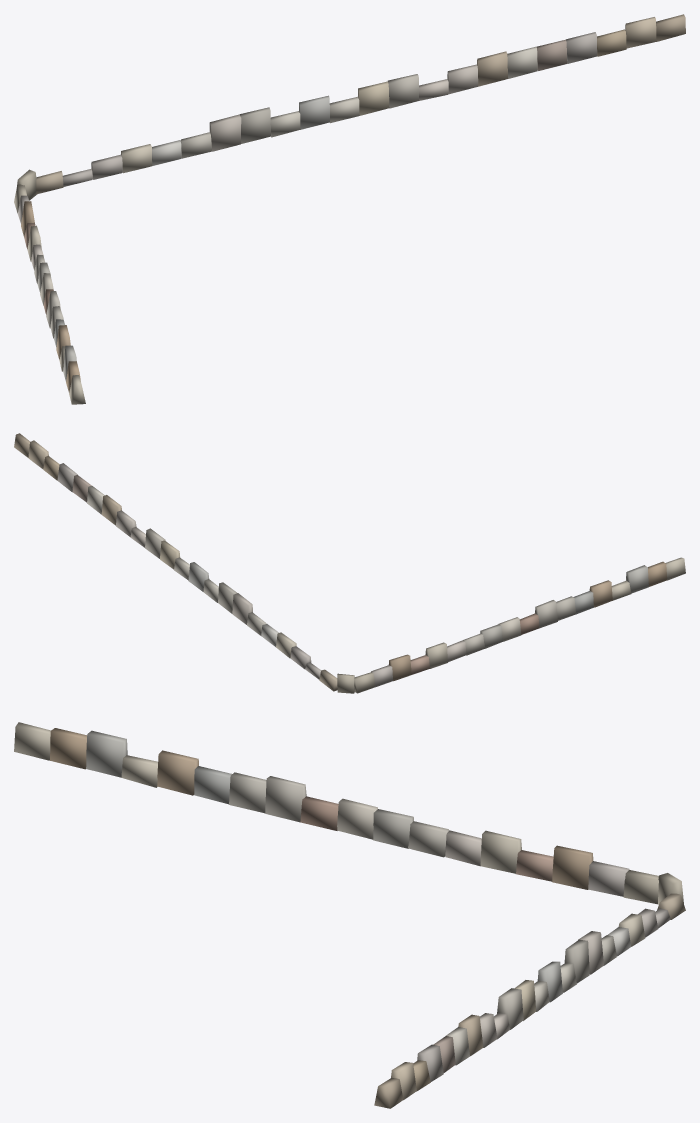
File: farm_6_0_far.glb
3 renders of one model, top to bottom at view 1: azimuth 30°, elevation 25°; view 2: azimuth 150°, elevation 25°; view 3: azimuth 270°, elevation 25°, orthographic. The views are drawn at different scales.
Parts seen in each view (by area): view 1: geometry_0; view 2: geometry_0; view 3: geometry_0.
Part boxes in pixels (bbox=[...]): geometry_0: bbox=[14, 14, 685, 404]; geometry_0: bbox=[14, 433, 685, 693]; geometry_0: bbox=[14, 722, 685, 1108].
Size of the model in its own units: 46.12 by 7.58 by 27.33.
